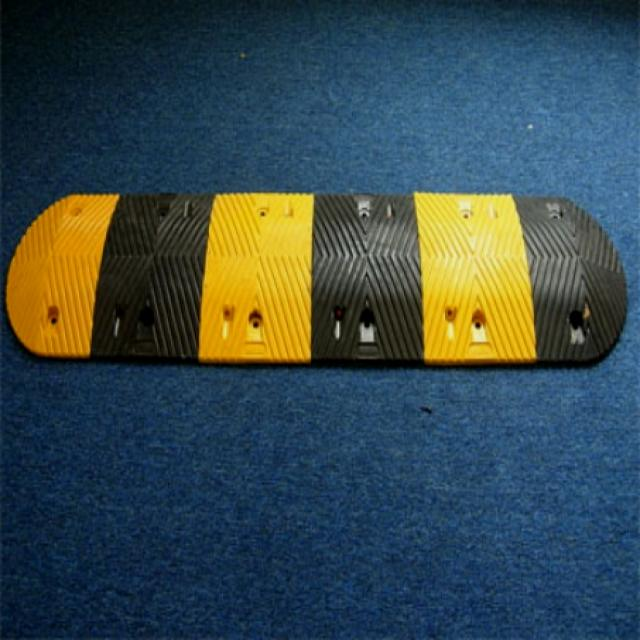Speed Bump: (11, 182, 640, 379)
